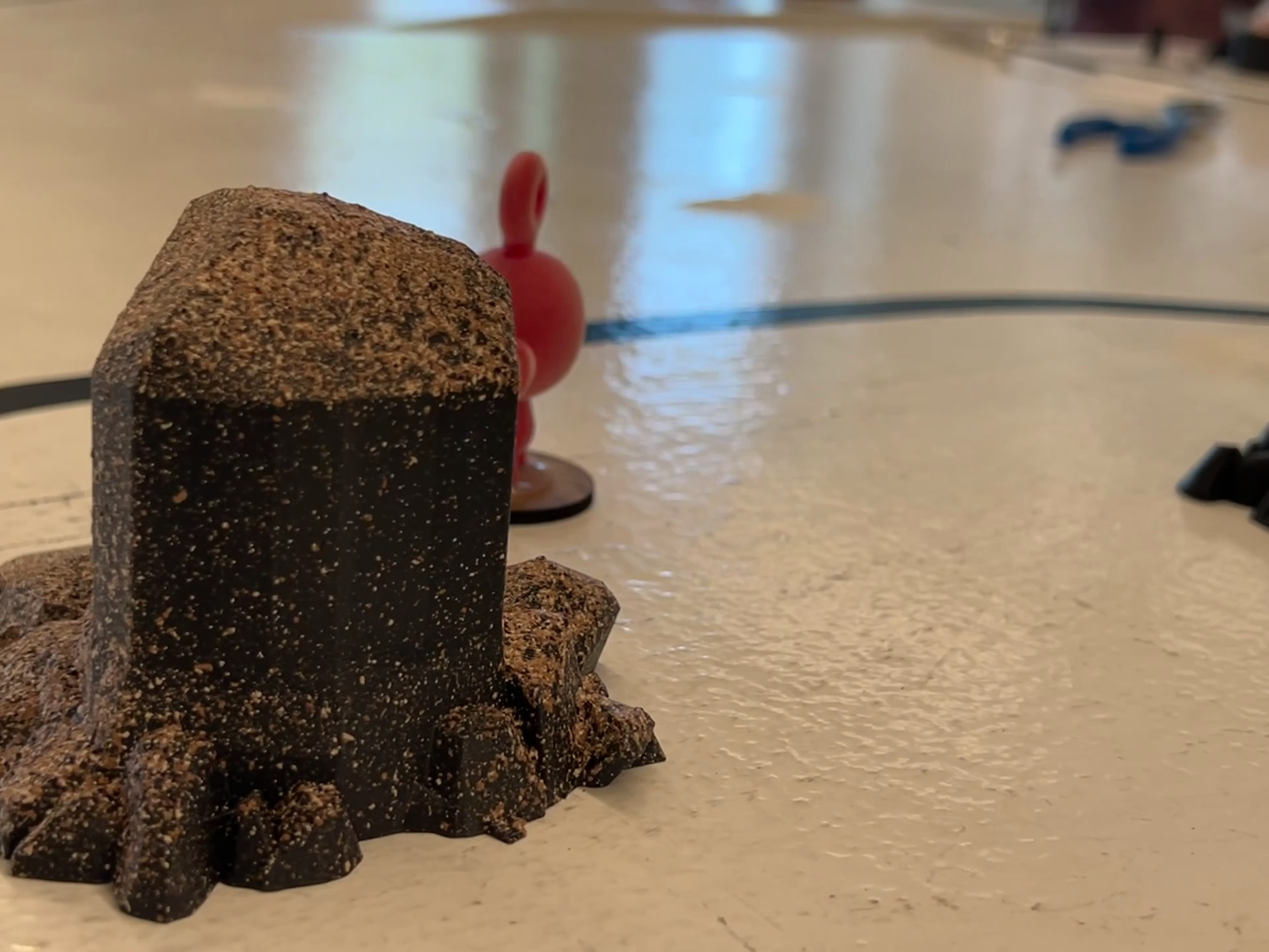teletubby: (481, 152, 586, 478)
